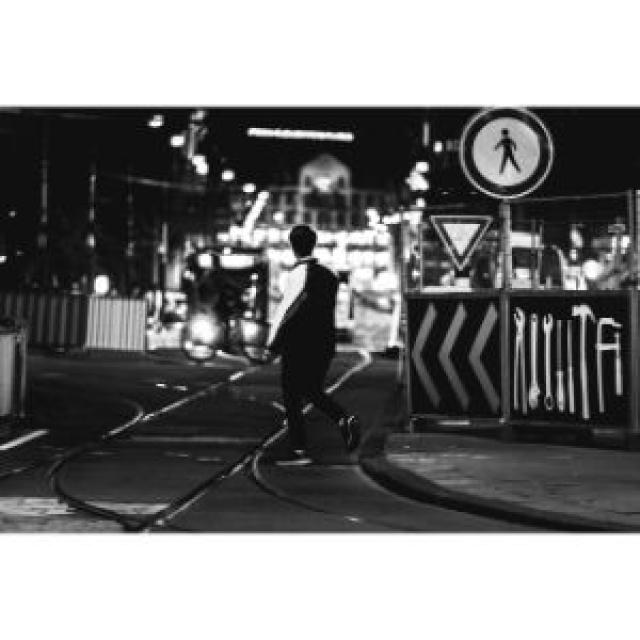nonfall: (276, 226, 363, 476)
